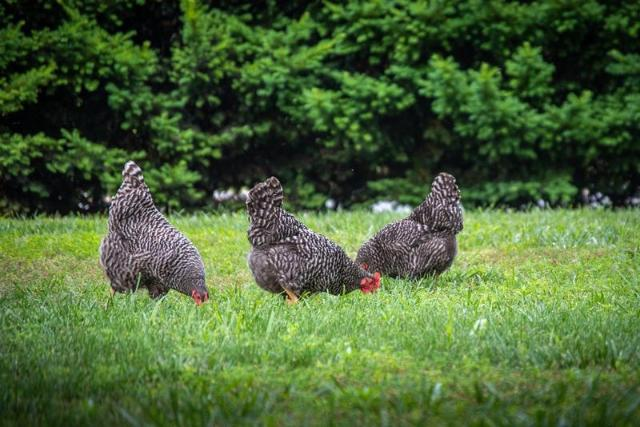Chicken: (248, 177, 382, 301), (100, 160, 210, 308), (355, 173, 465, 281)
